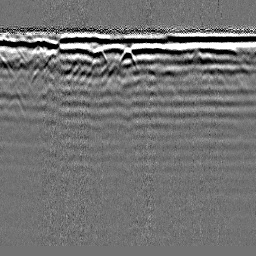cavity: (117, 47, 139, 68)
